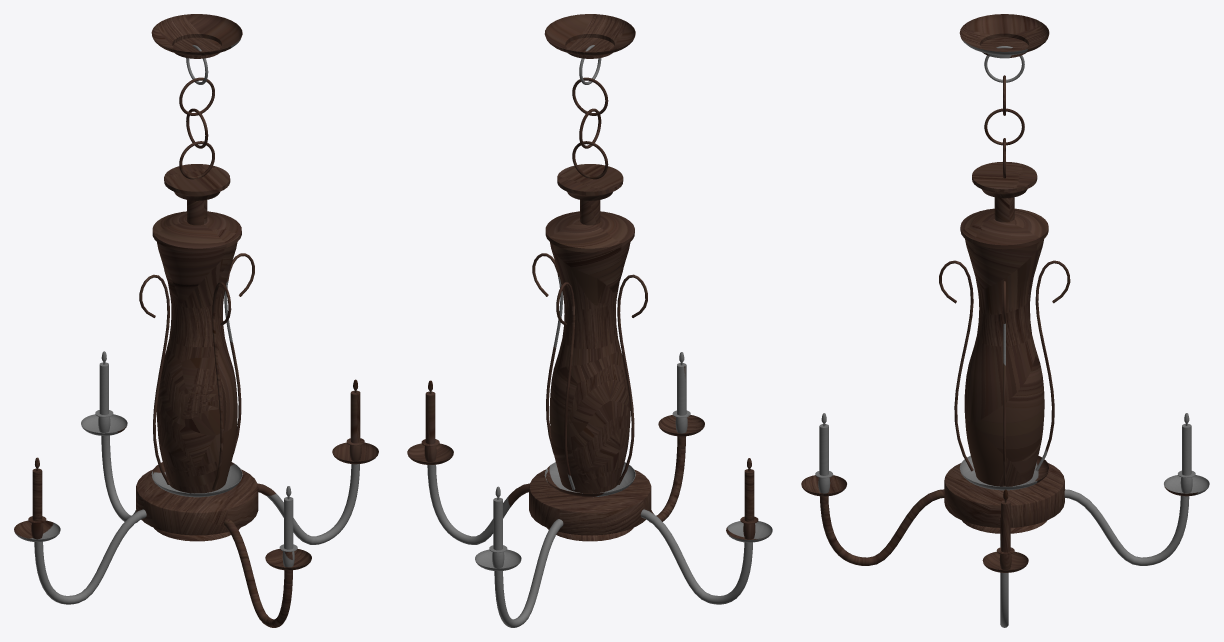
File: VIP_Chandy.obj
3 views of the same model, side by side, from view 1: azimuth 30°, elevation 25°; view 2: azimuth 150°, elevation 25°; view 3: azimuth 270°, elevation 25° (orthographic).
Visible parts, largest first — view 1: Cylinder.001_Cylinder.001, Cylinder_Cylinder, Sphere.007_Sphere.007, BezierCurve.004_BezierCurve.007_BezierCurve.004_BezierCurve.007, BezierCurve.006_BezierCurve.009_BezierCurve.006_BezierCurve.009, BezierCurve_BezierCurve, BezierCurve.005_BezierCurve.008_BezierCurve.005_BezierCurve.008, BezierCurve.007_BezierCurve.010_BezierCurve.007_BezierCurve.010, Sphere_Sphere, Cylinder.005_Cylinder.005, Cylinder.003_Cylinder.003, BezierCurve.002_BezierCurve.005_BezierCurve.002_BezierCurve.005 (+7 smaller); view 2: Cylinder.001_Cylinder.001, Cylinder_Cylinder, Sphere.007_Sphere.007, BezierCurve.004_BezierCurve.007_BezierCurve.004_BezierCurve.007, BezierCurve.002_BezierCurve.005_BezierCurve.002_BezierCurve.005, BezierCurve_BezierCurve, BezierCurve.005_BezierCurve.008_BezierCurve.005_BezierCurve.008, Sphere_Sphere, BezierCurve.003_BezierCurve.006_BezierCurve.003_BezierCurve.006, Cylinder.003_Cylinder.003, Cylinder.005_Cylinder.005, Cylinder.004_Cylinder.004 (+7 smaller); view 3: Cylinder.001_Cylinder.001, Cylinder_Cylinder, Sphere.007_Sphere.007, BezierCurve.002_BezierCurve.005_BezierCurve.002_BezierCurve.005, BezierCurve.006_BezierCurve.009_BezierCurve.006_BezierCurve.009, BezierCurve.007_BezierCurve.010_BezierCurve.007_BezierCurve.010, BezierCurve.003_BezierCurve.006_BezierCurve.003_BezierCurve.006, Sphere_Sphere, Cylinder.003_Cylinder.003, Cylinder.004_Cylinder.004, Cylinder.006_Cylinder.006, Sphere.005_Sphere.005 (+3 smaller).
Boxes of the visible parts, box(x1,y1,x2,y2) form: Cylinder.001_Cylinder.001: box(152, 164, 241, 493); Cylinder_Cylinder: box(136, 469, 258, 535); Sphere.007_Sphere.007: box(151, 14, 242, 58); BezierCurve.004_BezierCurve.007_BezierCurve.004_BezierCurve.007: box(34, 509, 146, 604); BezierCurve.006_BezierCurve.009_BezierCurve.006_BezierCurve.009: box(224, 519, 292, 627); BezierCurve_BezierCurve: box(257, 464, 359, 544); BezierCurve.005_BezierCurve.008_BezierCurve.005_BezierCurve.008: box(139, 274, 169, 484); BezierCurve.007_BezierCurve.010_BezierCurve.007_BezierCurve.010: box(212, 282, 231, 490); Sphere_Sphere: box(151, 462, 242, 497); Cylinder.005_Cylinder.005: box(28, 457, 46, 539); Cylinder.003_Cylinder.003: box(346, 379, 364, 461); BezierCurve.002_BezierCurve.005_BezierCurve.002_BezierCurve.005: box(101, 435, 137, 522); Cylinder.001_Cylinder.001: box(545, 164, 634, 493); Cylinder_Cylinder: box(529, 469, 651, 535); Sphere.007_Sphere.007: box(544, 14, 635, 58); BezierCurve.004_BezierCurve.007_BezierCurve.004_BezierCurve.007: box(640, 509, 752, 604); BezierCurve.002_BezierCurve.005_BezierCurve.002_BezierCurve.005: box(494, 519, 563, 627); BezierCurve_BezierCurve: box(427, 464, 529, 544); BezierCurve.005_BezierCurve.008_BezierCurve.005_BezierCurve.008: box(617, 274, 647, 484); Sphere_Sphere: box(544, 462, 635, 497); BezierCurve.003_BezierCurve.006_BezierCurve.003_BezierCurve.006: box(556, 282, 575, 490); Cylinder.003_Cylinder.003: box(421, 380, 439, 461); Cylinder.005_Cylinder.005: box(740, 458, 758, 539); Cylinder.004_Cylinder.004: box(489, 486, 507, 568); Cylinder.001_Cylinder.001: box(960, 162, 1048, 486); Cylinder_Cylinder: box(944, 463, 1064, 527); Sphere.007_Sphere.007: box(959, 14, 1049, 58); BezierCurve.002_BezierCurve.005_BezierCurve.002_BezierCurve.005: box(1064, 489, 1189, 565); BezierCurve.006_BezierCurve.009_BezierCurve.006_BezierCurve.009: box(820, 489, 944, 565); BezierCurve.007_BezierCurve.010_BezierCurve.007_BezierCurve.010: box(939, 260, 973, 471); BezierCurve.003_BezierCurve.006_BezierCurve.003_BezierCurve.006: box(1035, 260, 1070, 471); Sphere_Sphere: box(959, 455, 1049, 490); Cylinder.003_Cylinder.003: box(996, 489, 1014, 569); Cylinder.004_Cylinder.004: box(1178, 413, 1195, 493); Cylinder.006_Cylinder.006: box(815, 413, 833, 493); Sphere.005_Sphere.005: box(801, 475, 846, 496).
Size of the model in its own units: 1.4 by 2.02 by 1.4.
